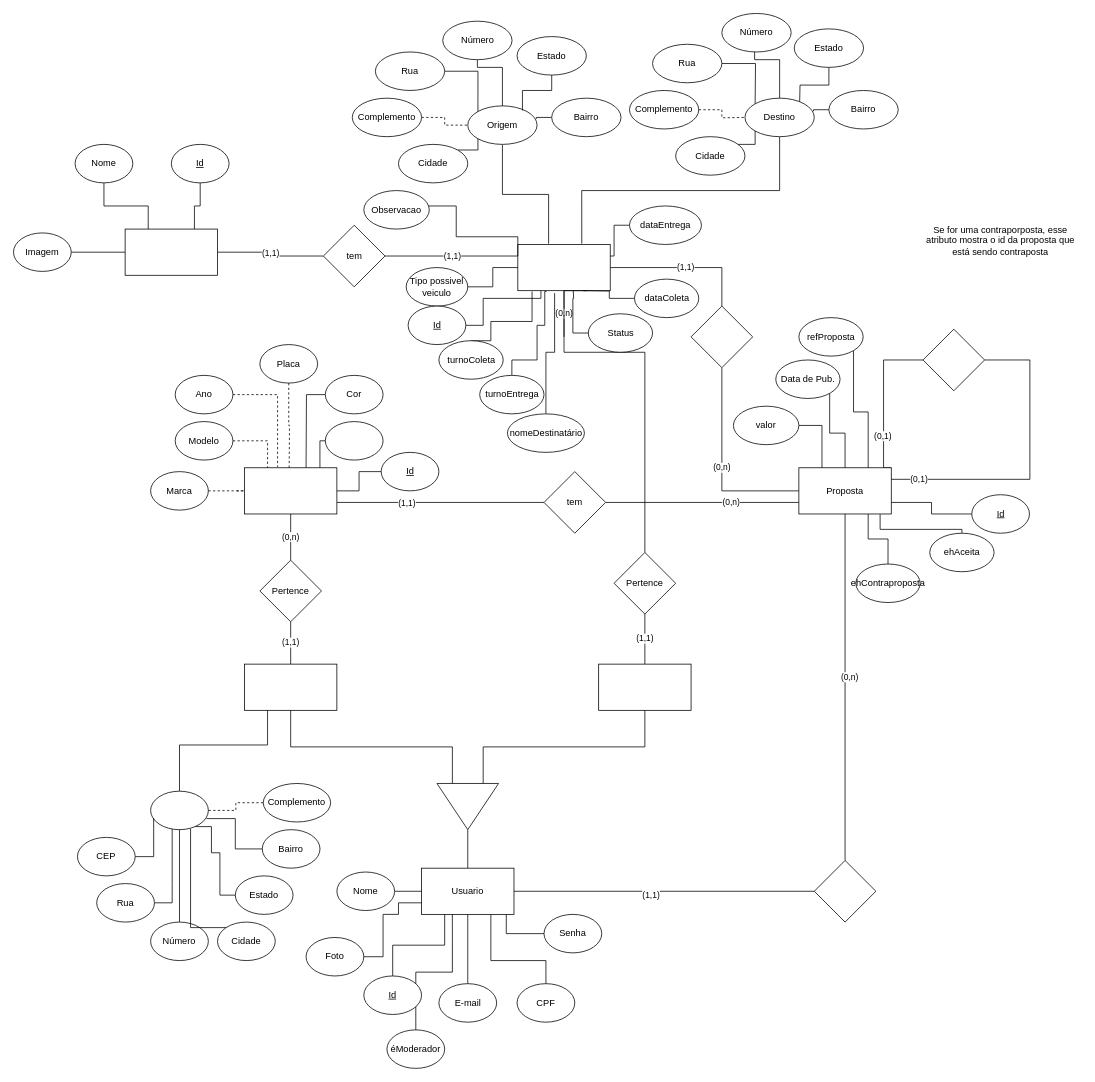
Image size: 1095x1082. Some labels were removed from this diagram. The centre of each missing label's shape, as x and y in pixels:
"Cliente" belongs at [644,686].
"contém" belongs at [721,336].
"Endereço" belongs at [179,810].
"faz" belongs at [845,891].
"Freteiro" belongs at [290,686].
"Pedido de Frete" belongs at [563,267].
"Produto" belongs at [171,251].
"referencia" belongs at [953,359].
"Tipo" belongs at [354,440].
"Veiculo" belongs at [290,490].
